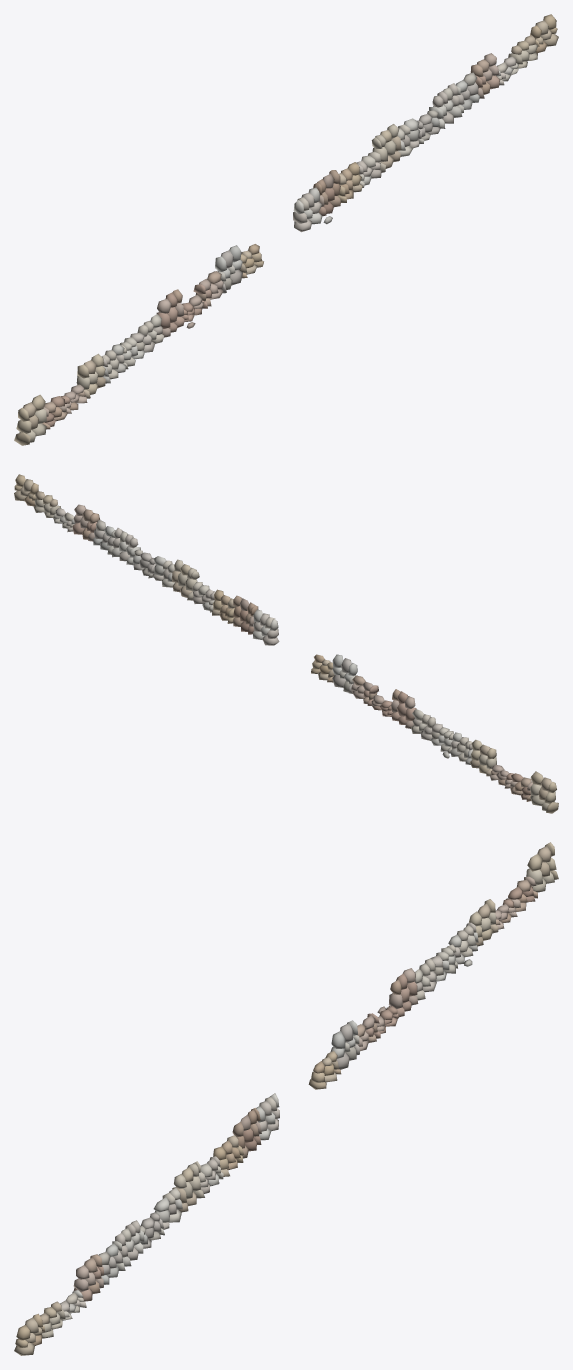
The model's file is farm_2_9_near.glb.
The picture shows the model from 3 angles, top to bottom: view 1: azimuth 90°, elevation 25°; view 2: azimuth 150°, elevation 25°; view 3: azimuth 270°, elevation 25°; orthographic projection. The views are drawn at different scales.
Parts seen in each view (by area): view 1: geometry_0; view 2: geometry_0; view 3: geometry_0.
Boxes of the visible parts, x1,y1,x2,y2 form: geometry_0: (14,14,558,445); geometry_0: (14,474,558,813); geometry_0: (14,842,558,1355).
Size of the model in its own units: 38.42 by 3 by 19.93.
